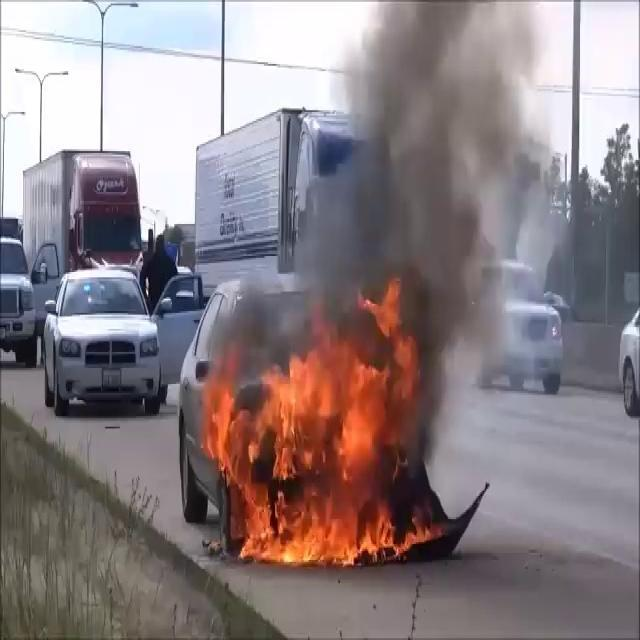Fire: (202, 326, 426, 574)
Smoke: (268, 1, 570, 380)
